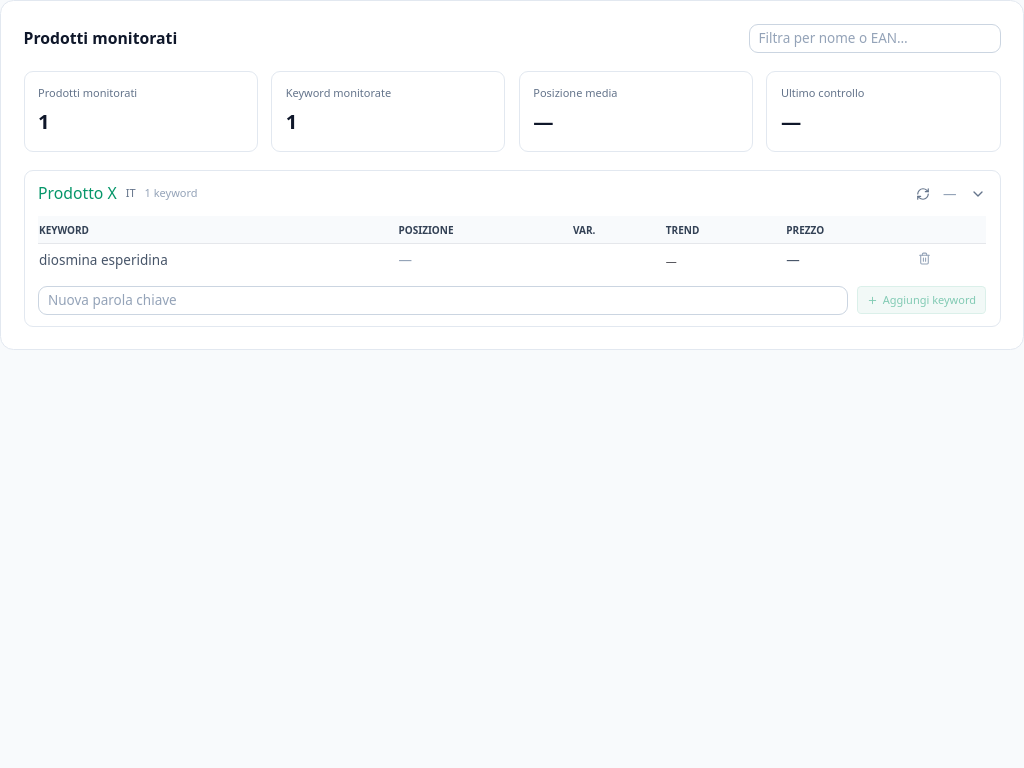
Test case: RedcareTrackedKeywords › lets the user add a new keyword to an already-tracked product from its expanded panel
The image size is (1024, 768).
Click the text "Prodotto X": (77, 194) x1=38 y1=182 x2=117 y2=205
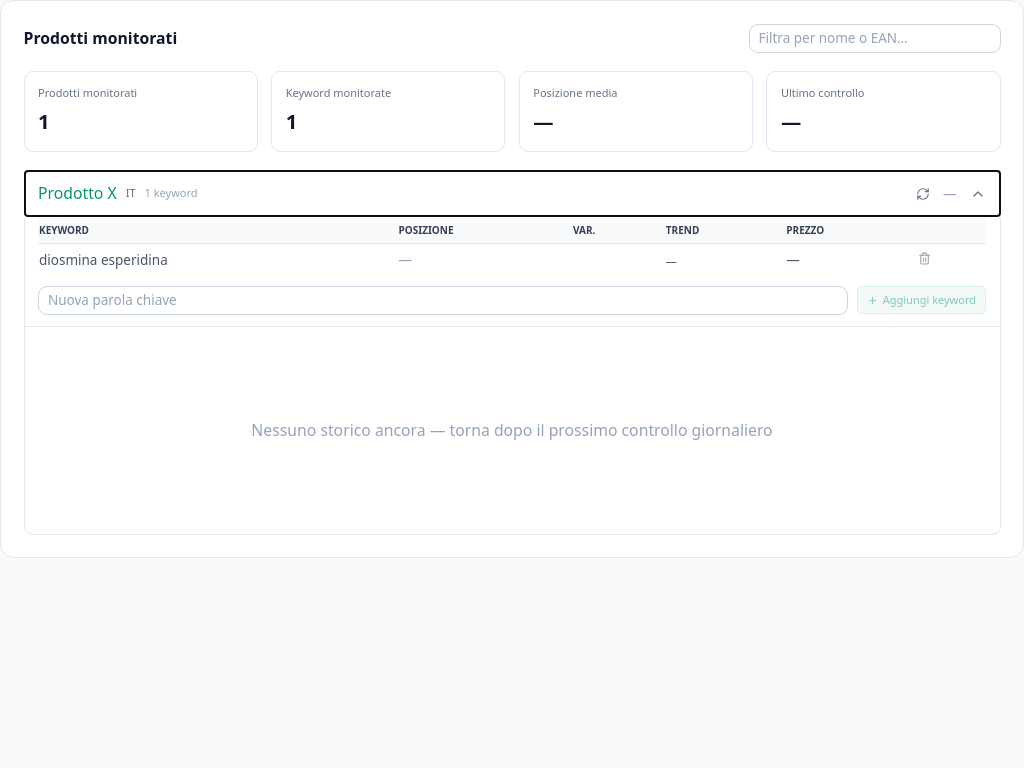
In the field with placeholder "Nuova parola chiave": (443, 300) x1=38 y1=286 x2=848 y2=314, type "vene varicose"
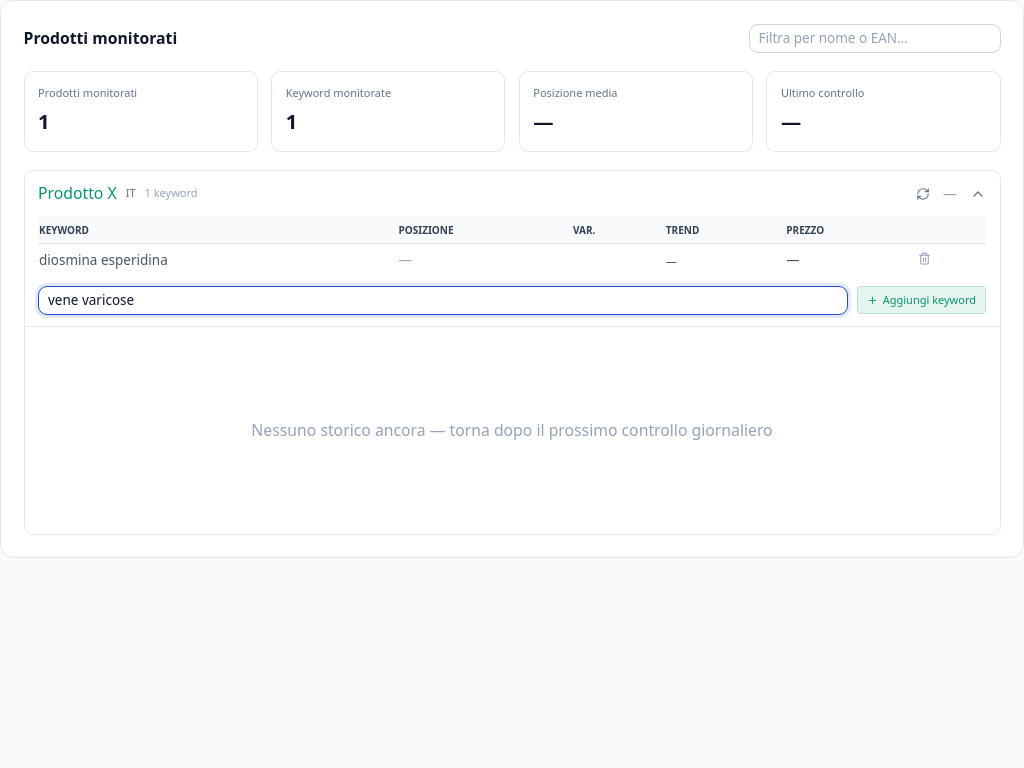
Click the button "Aggiungi keyword": (922, 300) x1=857 y1=286 x2=986 y2=314
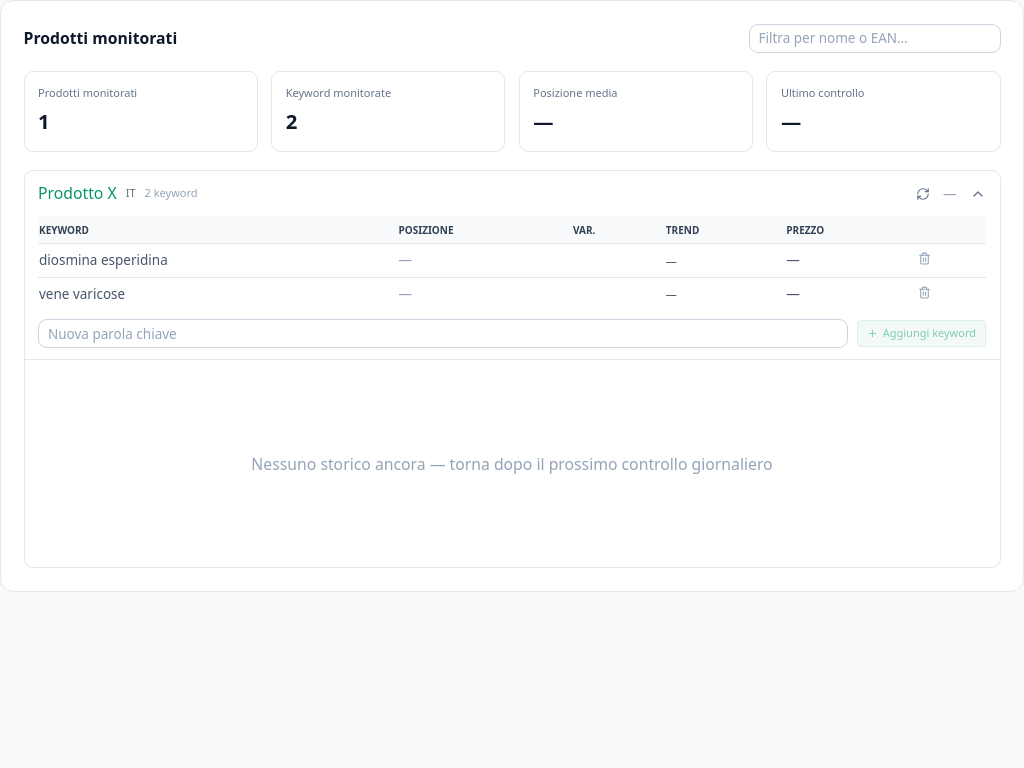
Check: the text "vene varicose" is shown, box x1=38 y1=277 x2=398 y2=310
Check: the field with placeholder "Nuova parola chiave" is empty, box x1=38 y1=319 x2=848 y2=348
